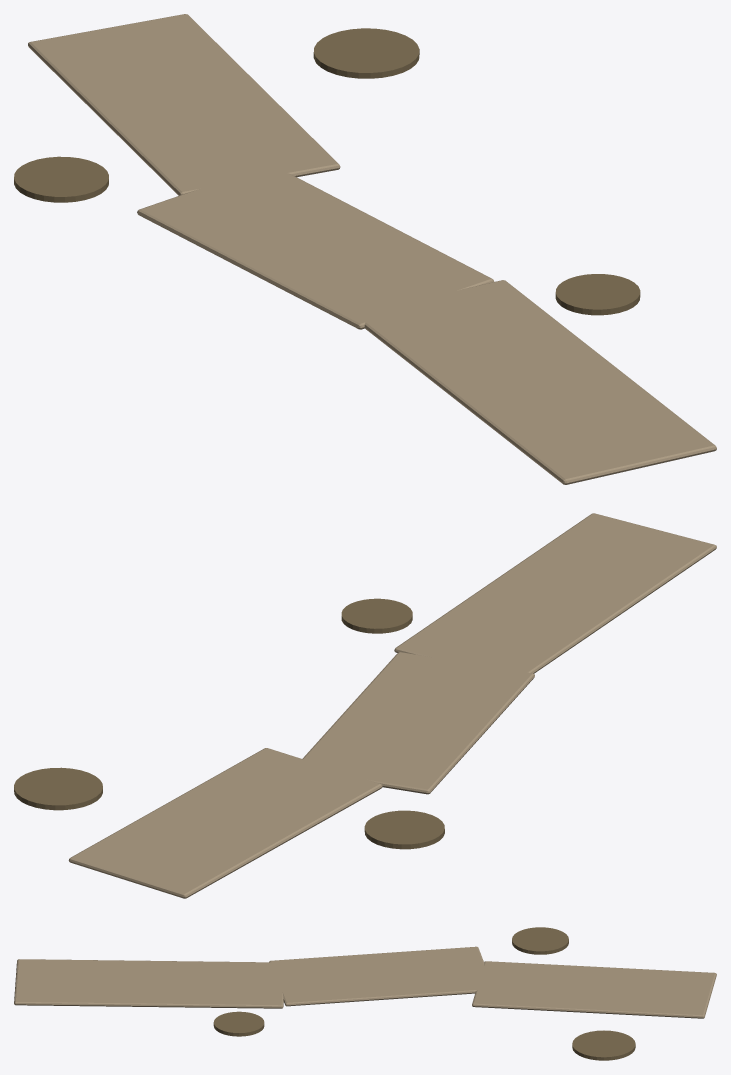
The model's file is pathways.glb.
3 views of the same model, one above another, from view 1: azimuth 30°, elevation 25°; view 2: azimuth 150°, elevation 25°; view 3: azimuth 270°, elevation 25° (orthographic). The views are drawn at different scales.
Visible parts, largest first — view 1: Path_Section_0, Path_Section_2, Path_Section_1, Planting_Bed_2, Planting_Bed_0, Planting_Bed_1; view 2: Path_Section_0, Path_Section_2, Path_Section_1, Planting_Bed_2, Planting_Bed_0, Planting_Bed_1; view 3: Path_Section_0, Path_Section_2, Path_Section_1, Planting_Bed_2, Planting_Bed_0, Planting_Bed_1.
Part boxes in pixels (<box>): Path_Section_0: <box>356,280,716,484</box>; Path_Section_2: <box>28,14,340,195</box>; Path_Section_1: <box>137,164,494,329</box>; Planting_Bed_2: <box>313,28,419,78</box>; Planting_Bed_0: <box>14,156,108,202</box>; Planting_Bed_1: <box>555,274,640,315</box>; Path_Section_0: <box>394,513,716,679</box>; Path_Section_2: <box>68,748,382,898</box>; Path_Section_1: <box>302,652,534,794</box>; Planting_Bed_2: <box>14,767,102,810</box>; Planting_Bed_0: <box>364,810,444,849</box>; Planting_Bed_1: <box>341,598,412,633</box>; Path_Section_0: <box>14,959,284,1008</box>; Path_Section_2: <box>472,961,716,1018</box>; Path_Section_1: <box>269,946,490,1006</box>; Planting_Bed_2: <box>572,1030,635,1060</box>; Planting_Bed_0: <box>512,927,568,954</box>; Planting_Bed_1: <box>213,1011,264,1036</box>.
Bounding box in the file's own units: 9.7 × 0.12 × 22.16.
